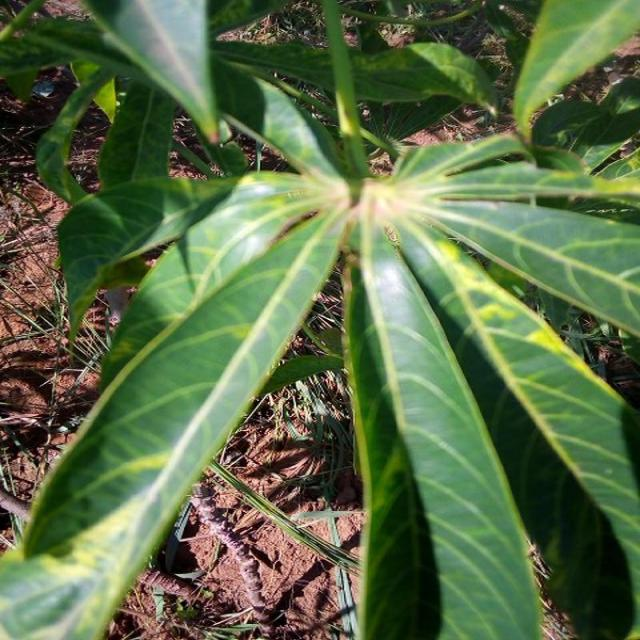cassava leaf: (1, 1, 638, 638), (1, 168, 345, 638), (342, 212, 543, 638)
